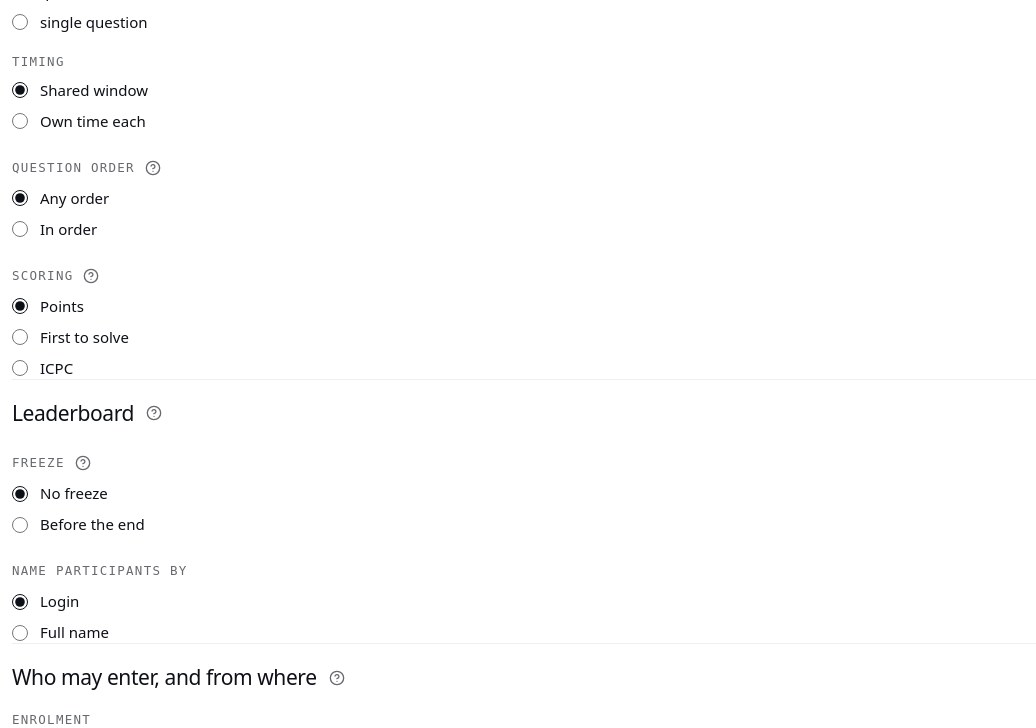
it: ContestPanel, the ICPC penalty › appears, defaulted to the contest's own value, once ICPC is picked
(page scrolled)
Click the radio button labelled "ICPC".
click(20, 368)  # box [12, 360, 28, 376]
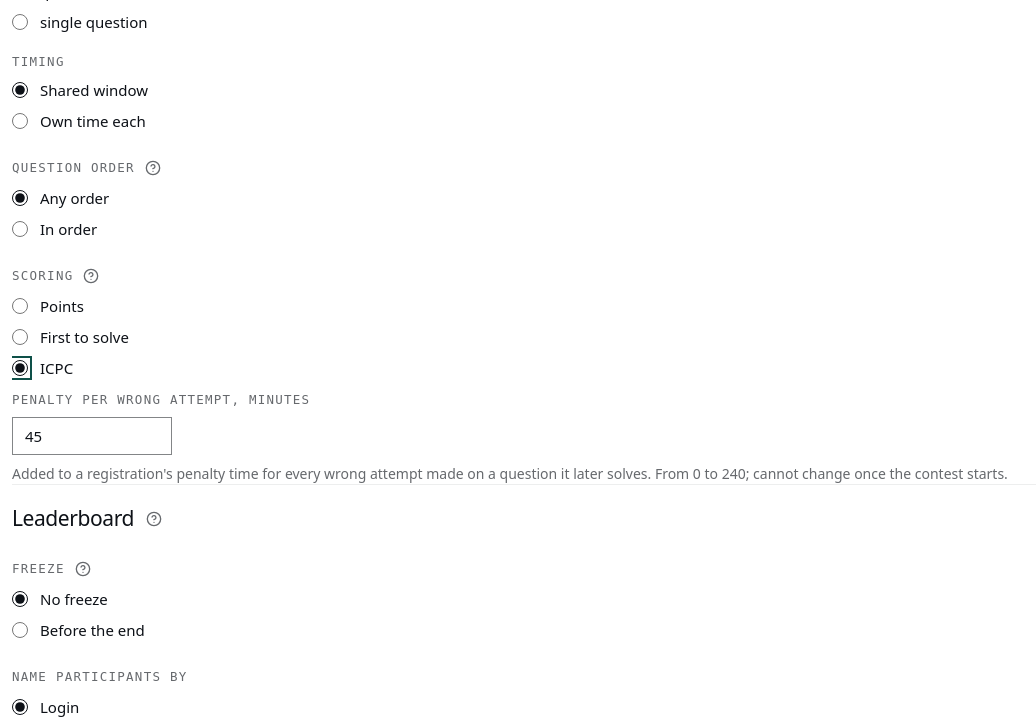
expect the number field labelled "Penalty per wrong attempt, minutes" holds "45": met, box [12, 417, 172, 455]
